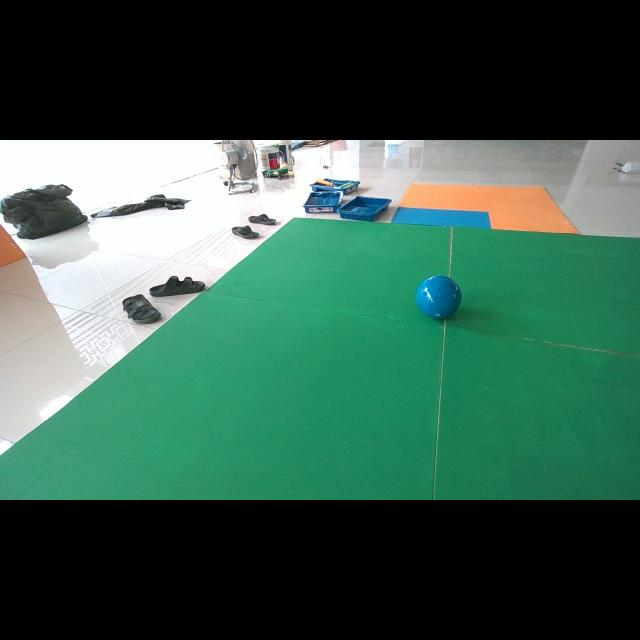B: (415, 275, 461, 319)
